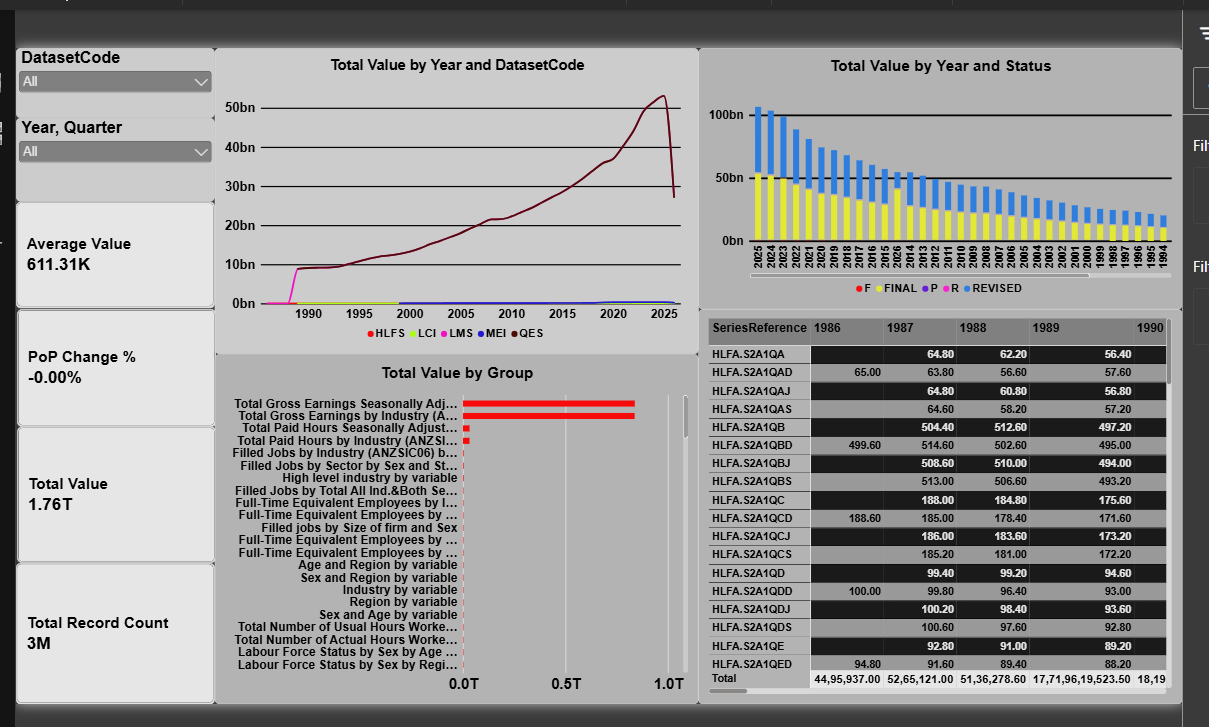

The dashboard page shown, as its layout file describes it:
{"tool":"powerbi","page":{"name":"Executive Summary ","canvas":[1920,1080],"ordinal":0},"visuals":[{"type":"cardVisual","fields":{"Data":["_Measures.Total Value"]},"box":[0,290.3,246.1,220.9],"z":0},{"type":"cardVisual","fields":{"Data":["_Measures.Average Value"]},"box":[0,511.1,246.1,176.7],"z":1},{"type":"cardVisual","fields":{"Data":["_Measures.Total Observations"]},"box":[0,687.8,246.1,183],"z":2},{"type":"cardVisual","fields":{"Data":["_Measures.QoQ Growth %"]},"box":[0,870.8,246.1,208.2],"z":3},{"type":"slicer","fields":{"Values":["vw_DimDate.Year"]},"box":[0,69.4,246.1,220.9],"z":4},{"type":"lineChart","fields":{"Category":["vw_DimDate.QuarterName"],"Series":["vw_DimDataset.DatasetCode"],"Y":["_Measures.Total Value"]},"box":[246.1,69.4,950.9,555.7],"z":5},{"type":"clusteredBarChart","fields":{"Category":["vw_DimGroup.Subject"],"Y":["_Measures.Total Value"]},"box":[1196.8,69.4,723.6,1009.6],"z":6},{"type":"pivotTable","fields":{"Columns":["vw_DimDate.Year"],"Rows":["vw_DimSeries.SeriesReference"],"Values":["_Measures.Total Value"]},"box":[246.1,624.7,950.7,454.3],"z":7},{"type":"textbox","box":[0,0,1920.4,69.4],"z":10}]}

Visuals, with their boxes on the page's 1920x1080 design canvas (x1, y1, x2, y2). These are canvas units, not pixel positions in the 1209x727 screenshot, which may show the page scaled, cropped or inside an application window:
cardVisual - _Measures.Total Value: rect(0, 290, 246, 511)
cardVisual - _Measures.Average Value: rect(0, 511, 246, 688)
cardVisual - _Measures.Total Observations: rect(0, 688, 246, 871)
cardVisual - _Measures.QoQ Growth %: rect(0, 871, 246, 1079)
slicer - vw_DimDate.Year: rect(0, 69, 246, 290)
lineChart - vw_DimDate.QuarterName x vw_DimDataset.DatasetCode: rect(246, 69, 1197, 625)
clusteredBarChart - vw_DimGroup.Subject x _Measures.Total Value: rect(1197, 69, 1920, 1079)
pivotTable - vw_DimDate.Year x vw_DimSeries.SeriesReference: rect(246, 625, 1197, 1079)
textbox: rect(0, 0, 1920, 69)
